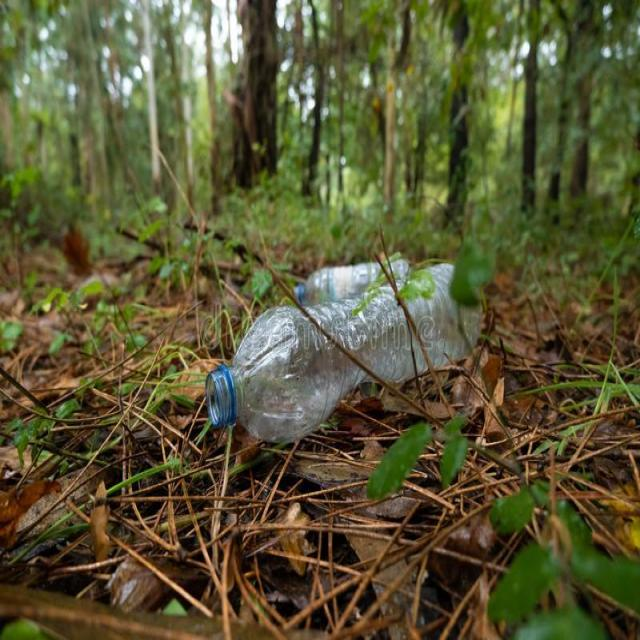bottle: (193, 268, 471, 442)
